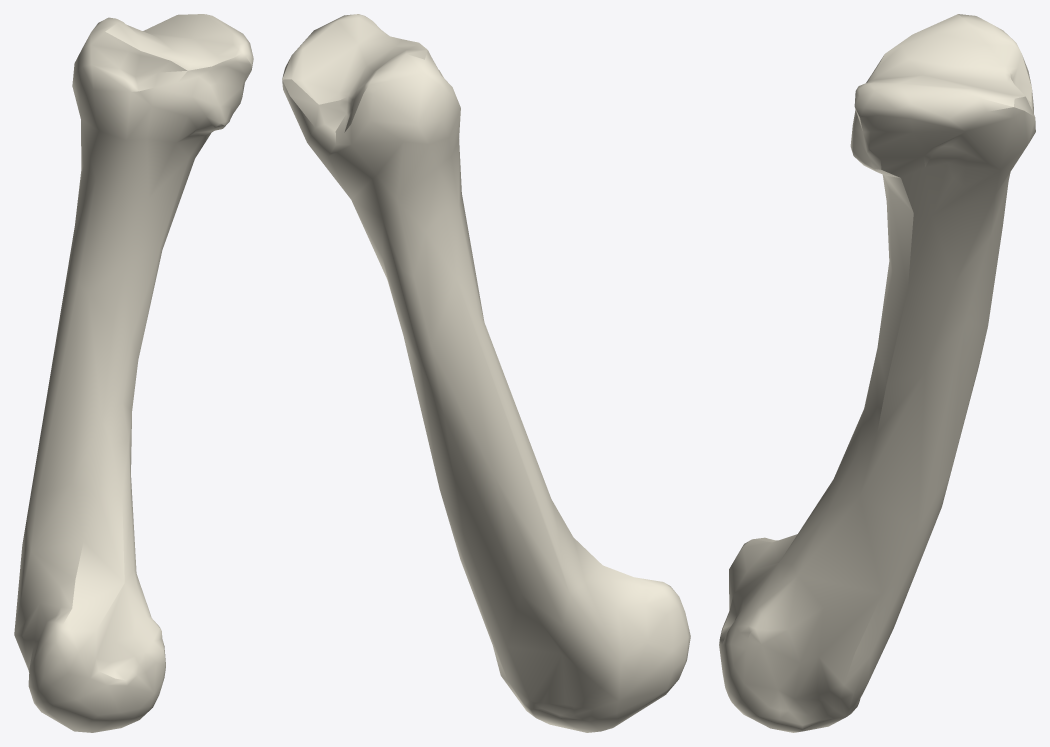
Rendered from fma24466_fj3352.glb.
3 renders of one model, left to right at view 1: azimuth 30°, elevation 25°; view 2: azimuth 150°, elevation 25°; view 3: azimuth 270°, elevation 25°, orthographic. The views are drawn at different scales.
Parts seen in each view (by area): view 1: FMA24466_FJ3352; view 2: FMA24466_FJ3352; view 3: FMA24466_FJ3352.
Boxes of the visible parts, left/top/right/bottom form: FMA24466_FJ3352: left=14, top=14, right=253, bottom=732; FMA24466_FJ3352: left=282, top=14, right=690, bottom=732; FMA24466_FJ3352: left=719, top=14, right=1035, bottom=732.
Size of the model in its own units: 0.0309 by 0.068 by 0.0257.
